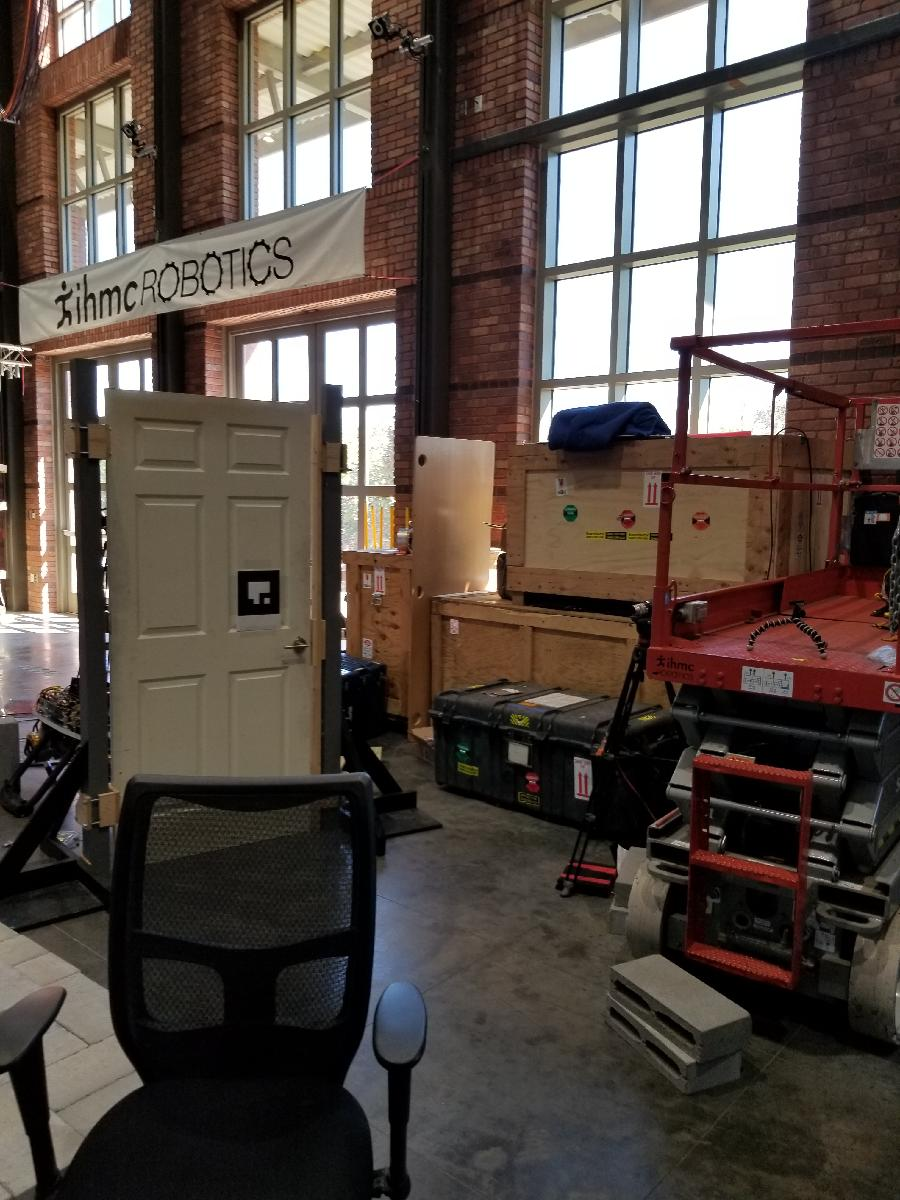door: (100, 383, 322, 882)
doorHandle: (276, 632, 308, 659)
